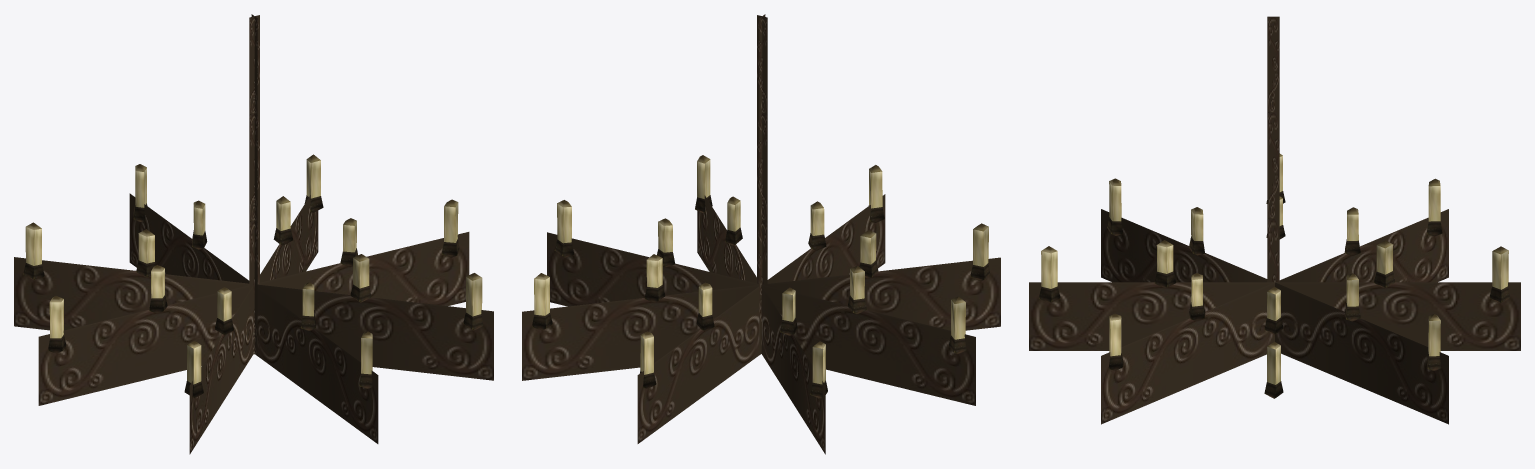
File: chandelier_govs.fbx
3 renders of one model, left to right at view 1: azimuth 30°, elevation 25°; view 2: azimuth 150°, elevation 25°; view 3: azimuth 270°, elevation 25°, orthographic.
Parts seen in each view (by area): view 1: chandelier_arms, chandeleir_candles, chandelier_arms1; view 2: chandelier_arms, chandeleir_candles, chandelier_arms1; view 3: chandelier_arms, chandeleir_candles, chandelier_arms1.
Boxes of the visible parts, x1,y1,x2,y2 form: chandelier_arms: (14, 15, 493, 454); chandeleir_candles: (23, 154, 483, 398); chandelier_arms1: (251, 14, 257, 355); chandelier_arms: (522, 15, 1000, 454); chandeleir_candles: (532, 155, 990, 398); chandelier_arms1: (759, 14, 765, 354); chandelier_arms: (1029, 209, 1520, 424); chandeleir_candles: (1039, 153, 1509, 398); chandelier_arms1: (1267, 16, 1279, 282).
Bounding box in the file's own units: 709 × 532 × 709.
2 materials, 2 textured.
